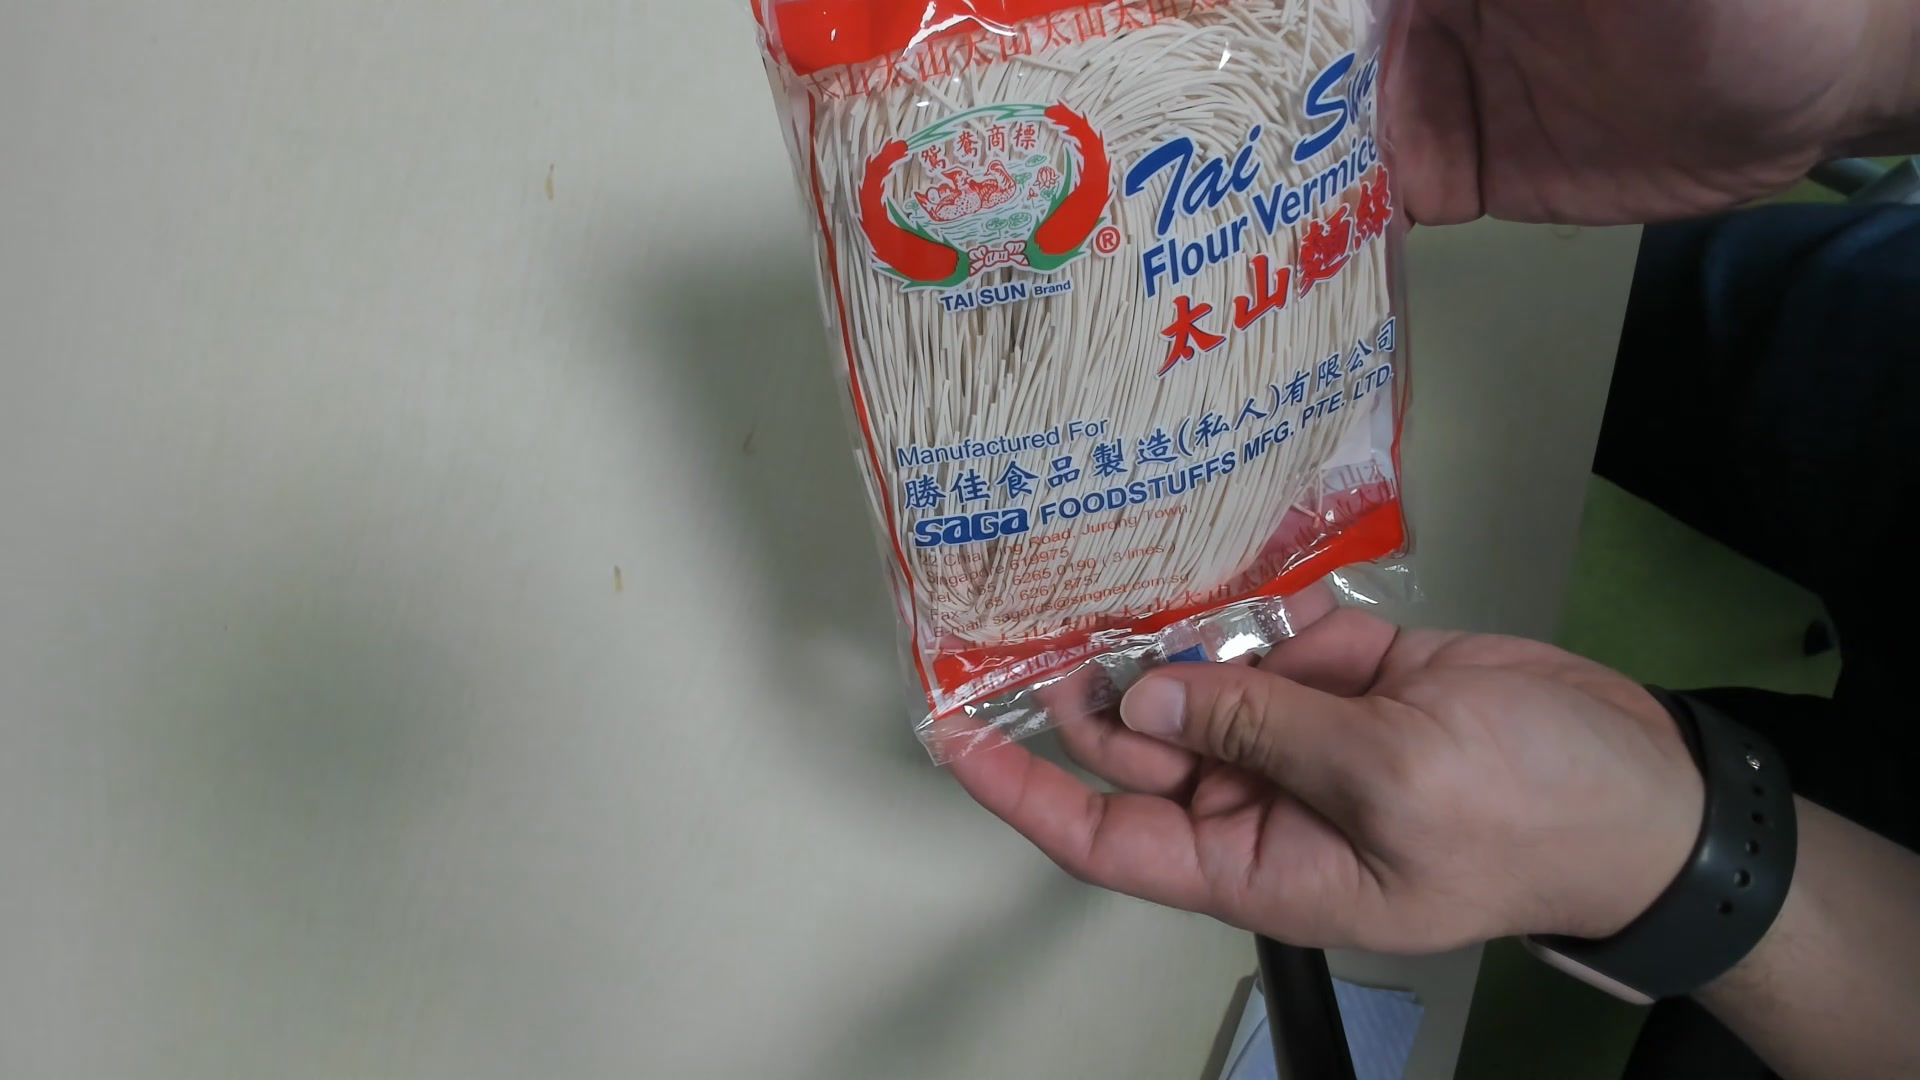BeeHoonVermicelli_100-199g_Halal_NonHealthy: (756, 3, 1427, 745)
